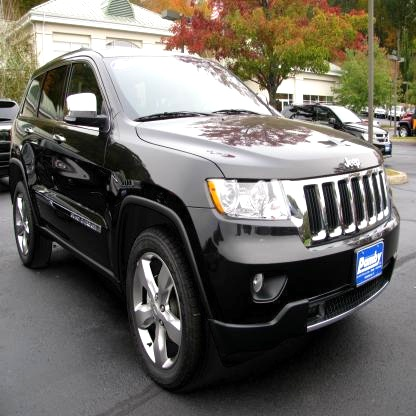Vehicle: (9, 49, 402, 392)
